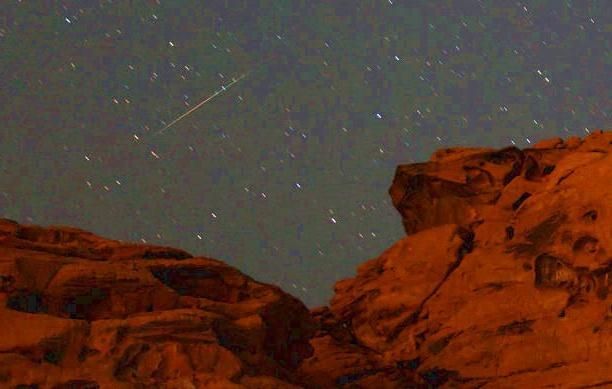meteorite: (147, 54, 259, 151)
